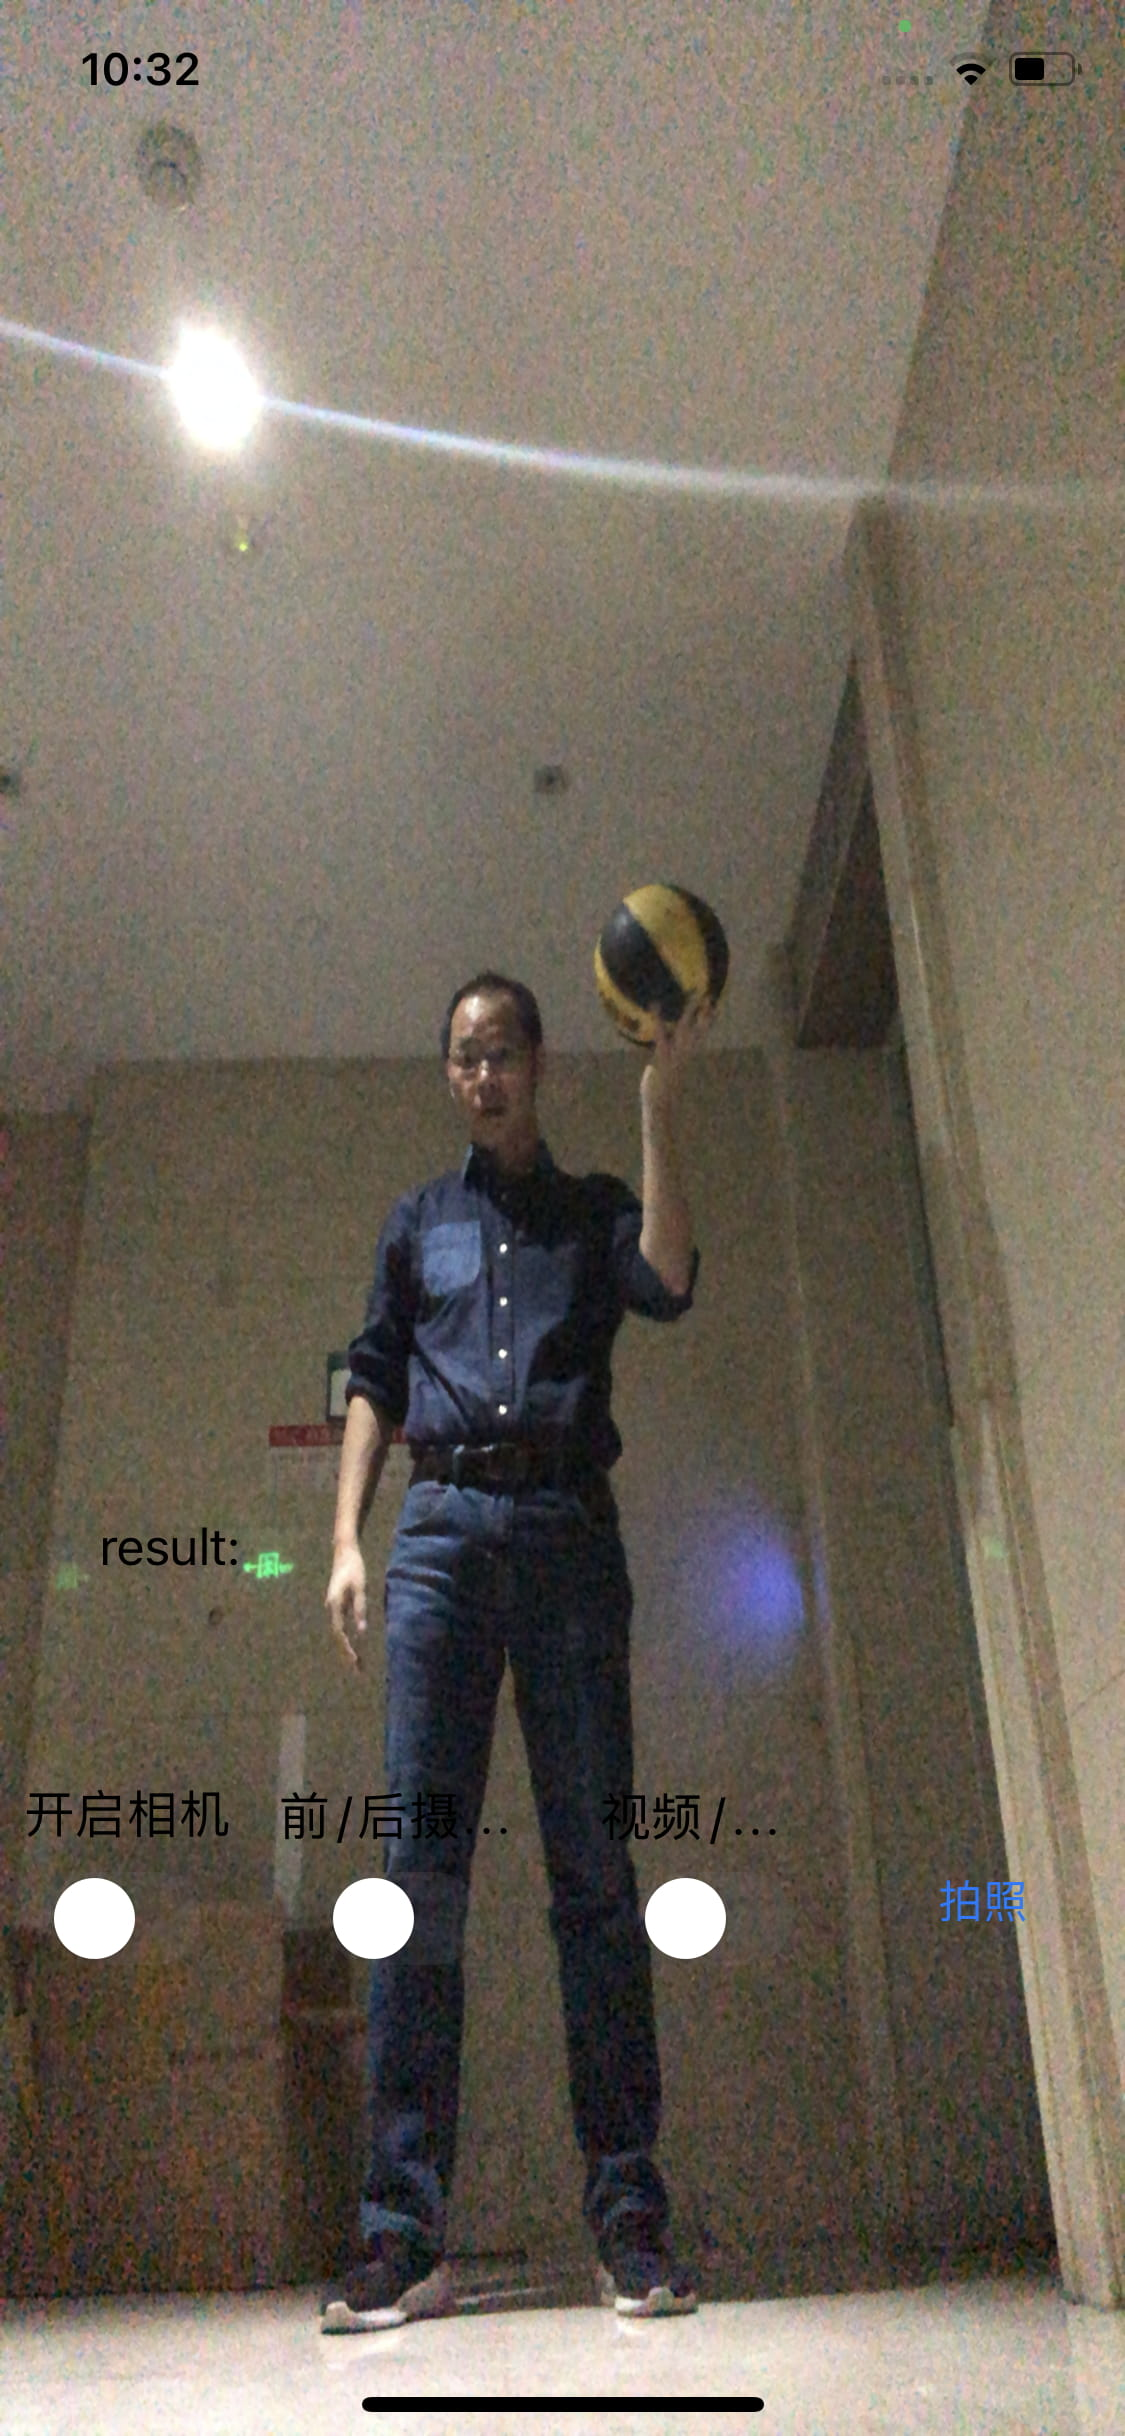ball: (597, 886, 733, 1044)
